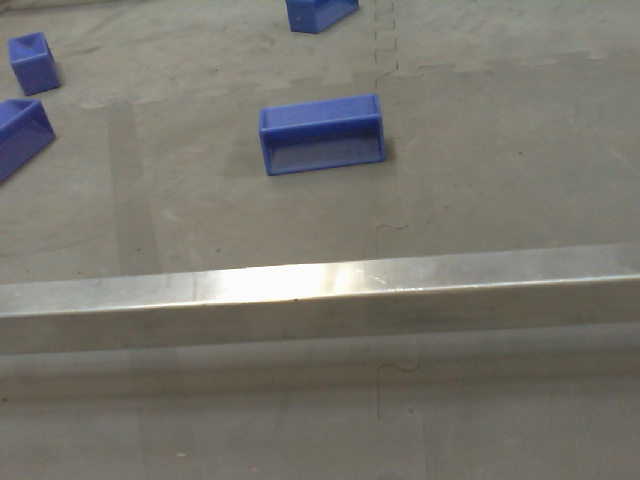BlueSample: (253, 92, 392, 180), (1, 30, 68, 98), (1, 94, 55, 175), (287, 1, 361, 40)
